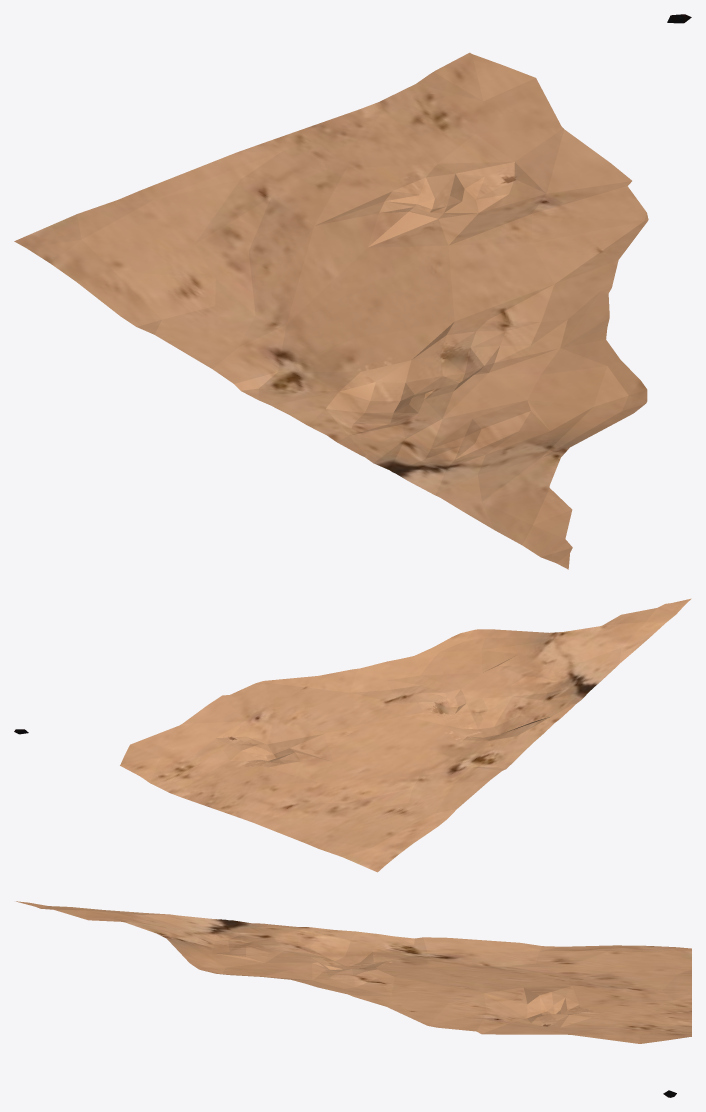
The picture shows the model from 3 angles, top to bottom: view 1: azimuth 30°, elevation 25°; view 2: azimuth 150°, elevation 25°; view 3: azimuth 270°, elevation 25°; orthographic projection. The views are drawn at different scales.
Bounding box in the file's own units: 0.7098 × 0.0799 × 1.04.
1 material, 1 textured.
